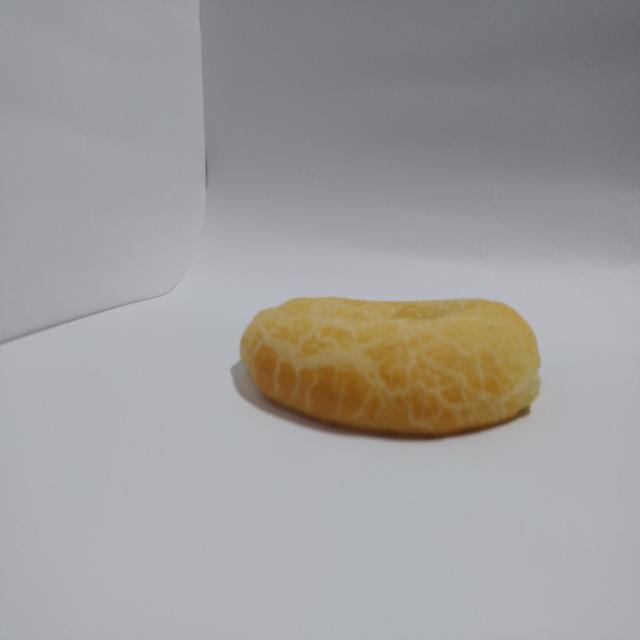Food: (234, 280, 552, 458)
